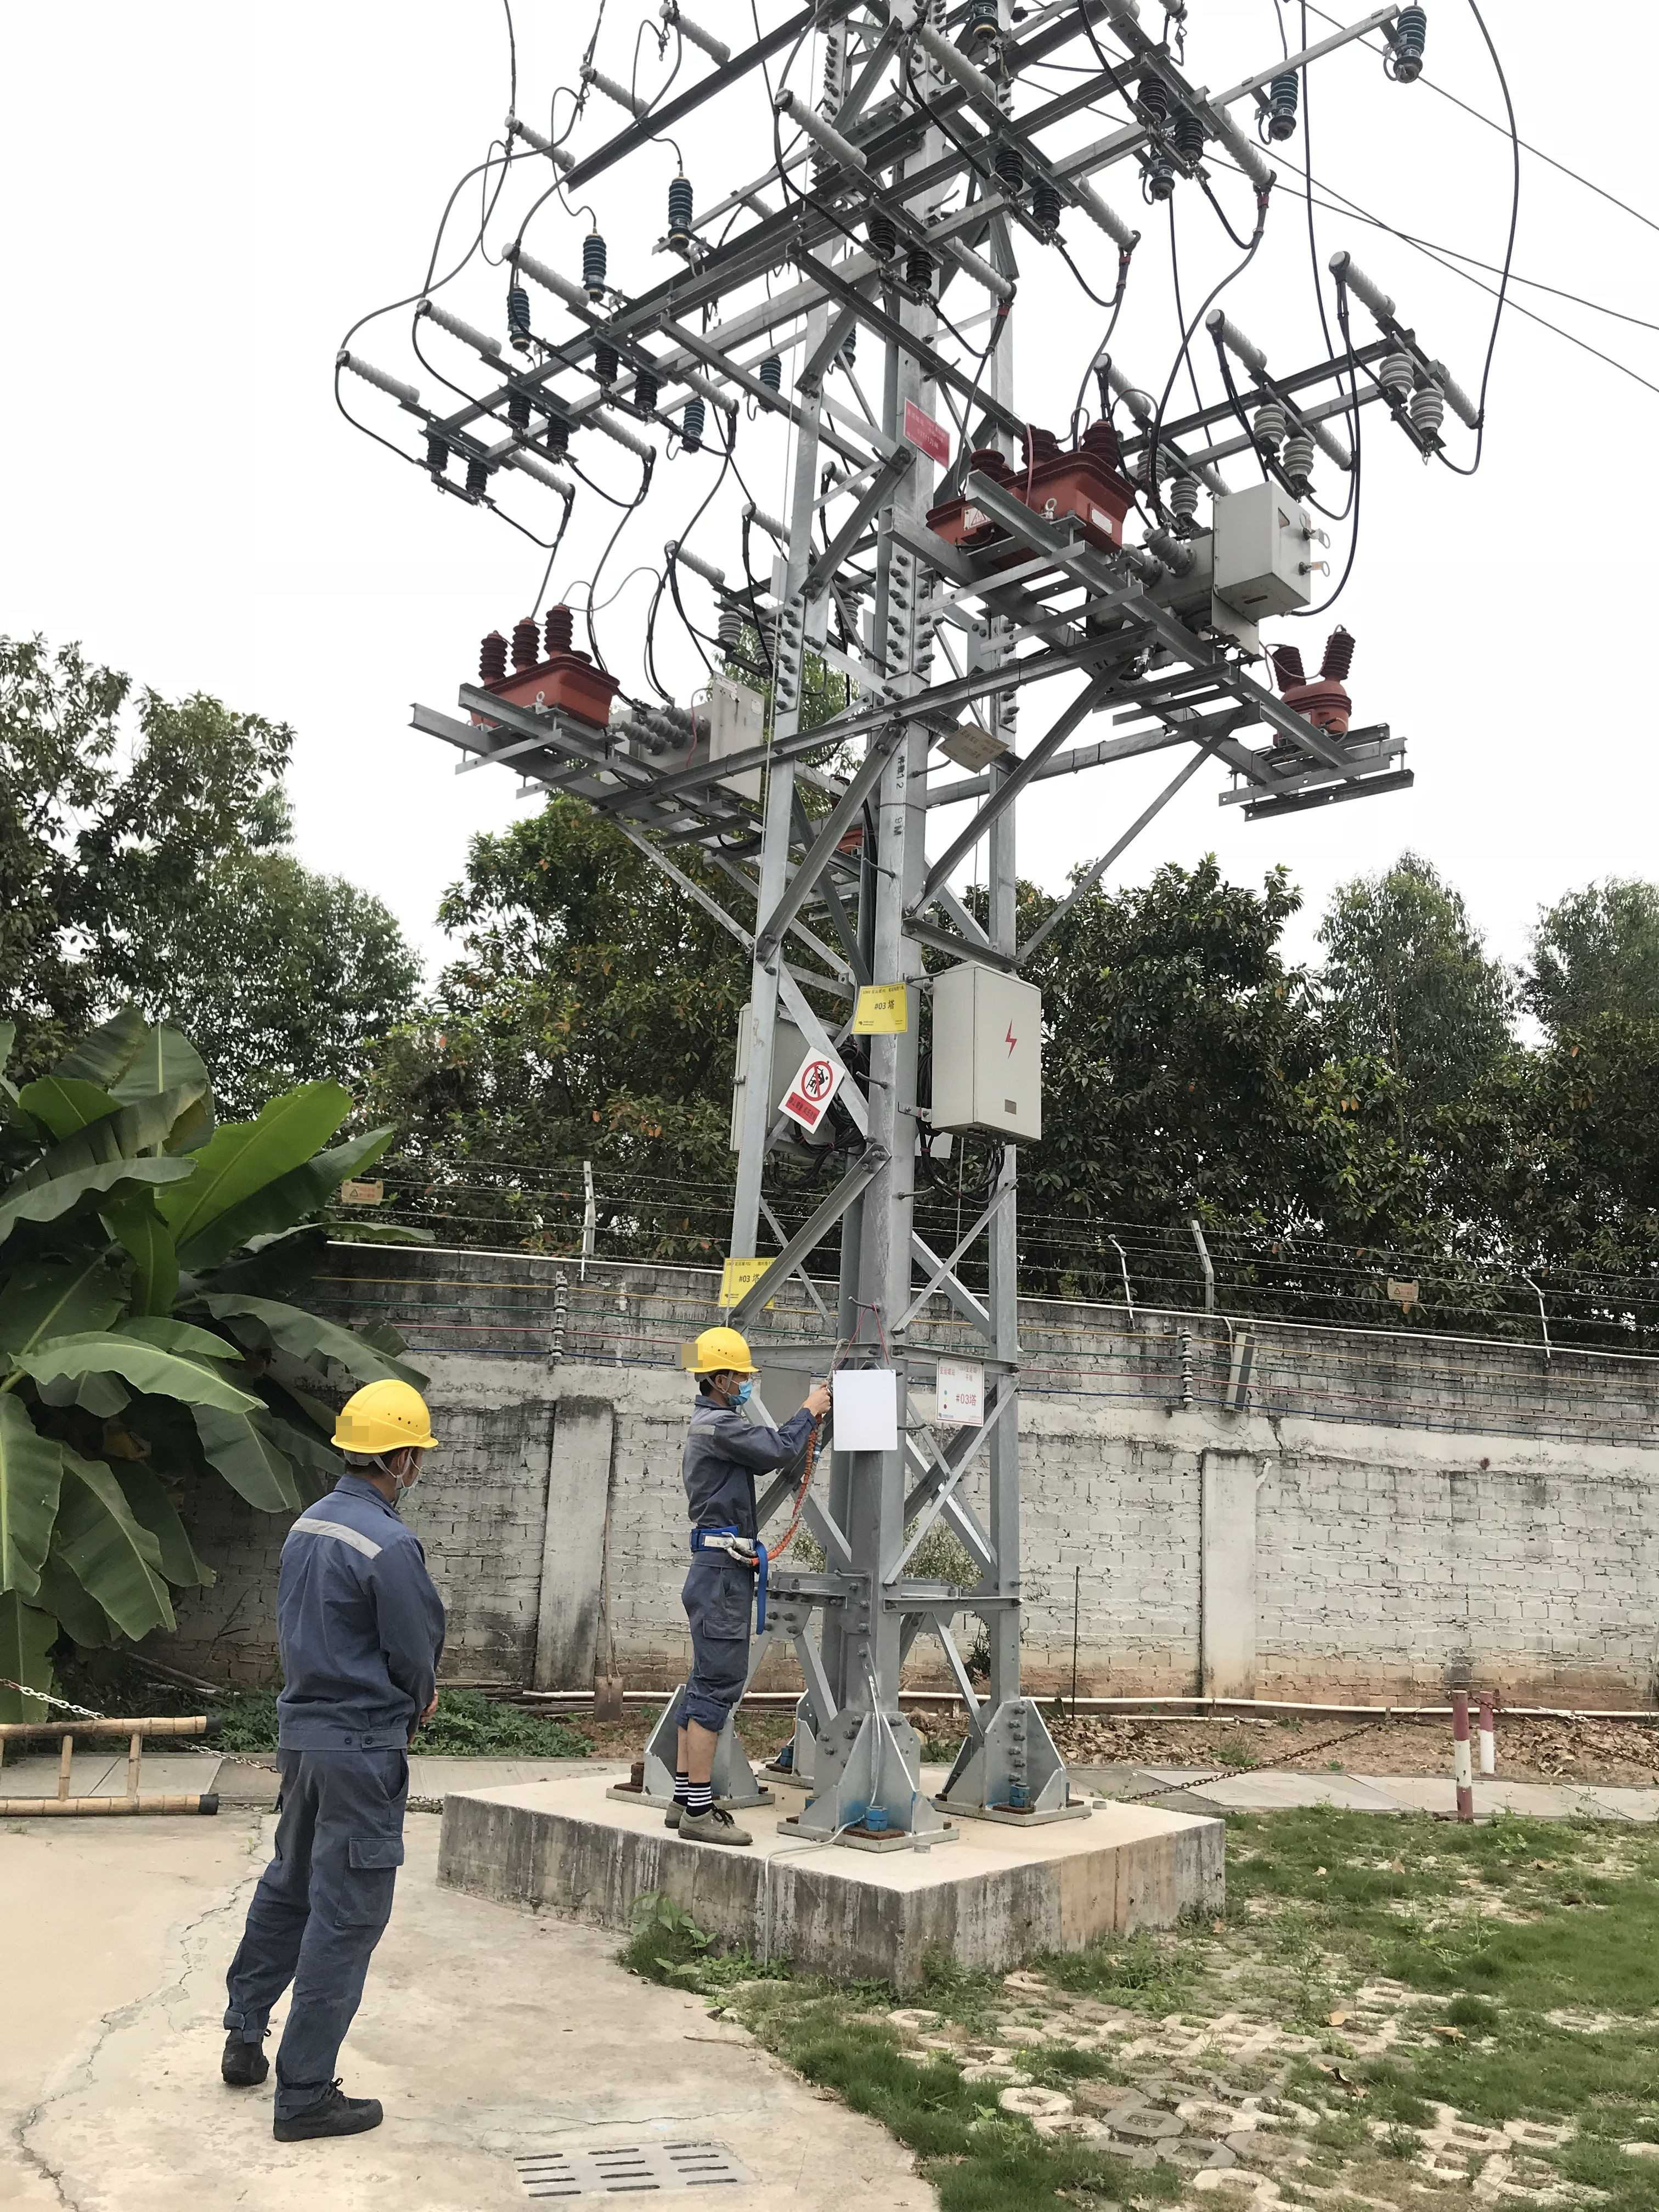downsuit: (221, 1766, 416, 2069), (669, 1566, 769, 1735)
upsuit: (267, 1479, 453, 1740), (676, 1395, 809, 1559)
wrongbottom: (666, 1698, 732, 1799)
